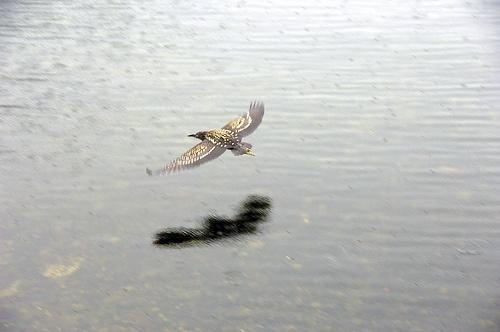bird: (146, 101, 266, 179)
